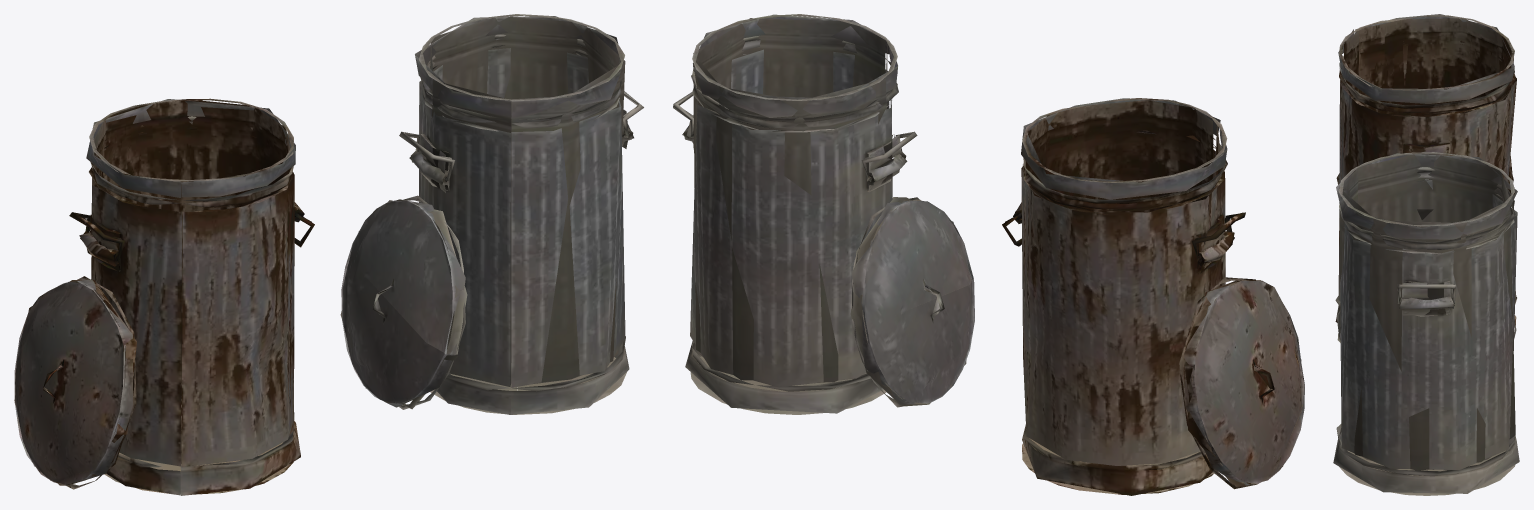
File: metal_trash_can.glb
3 views of the same model, side by side, from view 1: azimuth 30°, elevation 25°; view 2: azimuth 150°, elevation 25°; view 3: azimuth 270°, elevation 25° (orthographic). The views are drawn at different scales.
Parts seen in each view (by area): view 1: metal_trash_can, metal_trash_can_rust, metal_trash_can_lid, metal_trash_can_rust_lid; view 2: metal_trash_can, metal_trash_can_rust, metal_trash_can_lid, metal_trash_can_rust_lid; view 3: metal_trash_can, metal_trash_can_rust, metal_trash_can_handle_right.
Boxes of the visible parts, box(x1,y1,x2,y2) form: metal_trash_can: box(409, 14, 633, 414); metal_trash_can_rust: box(79, 98, 304, 495); metal_trash_can_lid: box(340, 195, 467, 409); metal_trash_can_rust_lid: box(14, 276, 136, 489); metal_trash_can: box(682, 14, 907, 414); metal_trash_can_rust: box(1013, 98, 1234, 495); metal_trash_can_lid: box(850, 197, 974, 407); metal_trash_can_rust_lid: box(1179, 277, 1304, 489); metal_trash_can: box(1333, 151, 1519, 495); metal_trash_can_rust: box(1335, 14, 1516, 325); metal_trash_can_handle_right: box(1397, 284, 1456, 303).
Bounding box in the file's own units: 1.77 × 0.9068 × 0.5703.
Materials: 2 (2 with a texture image).
